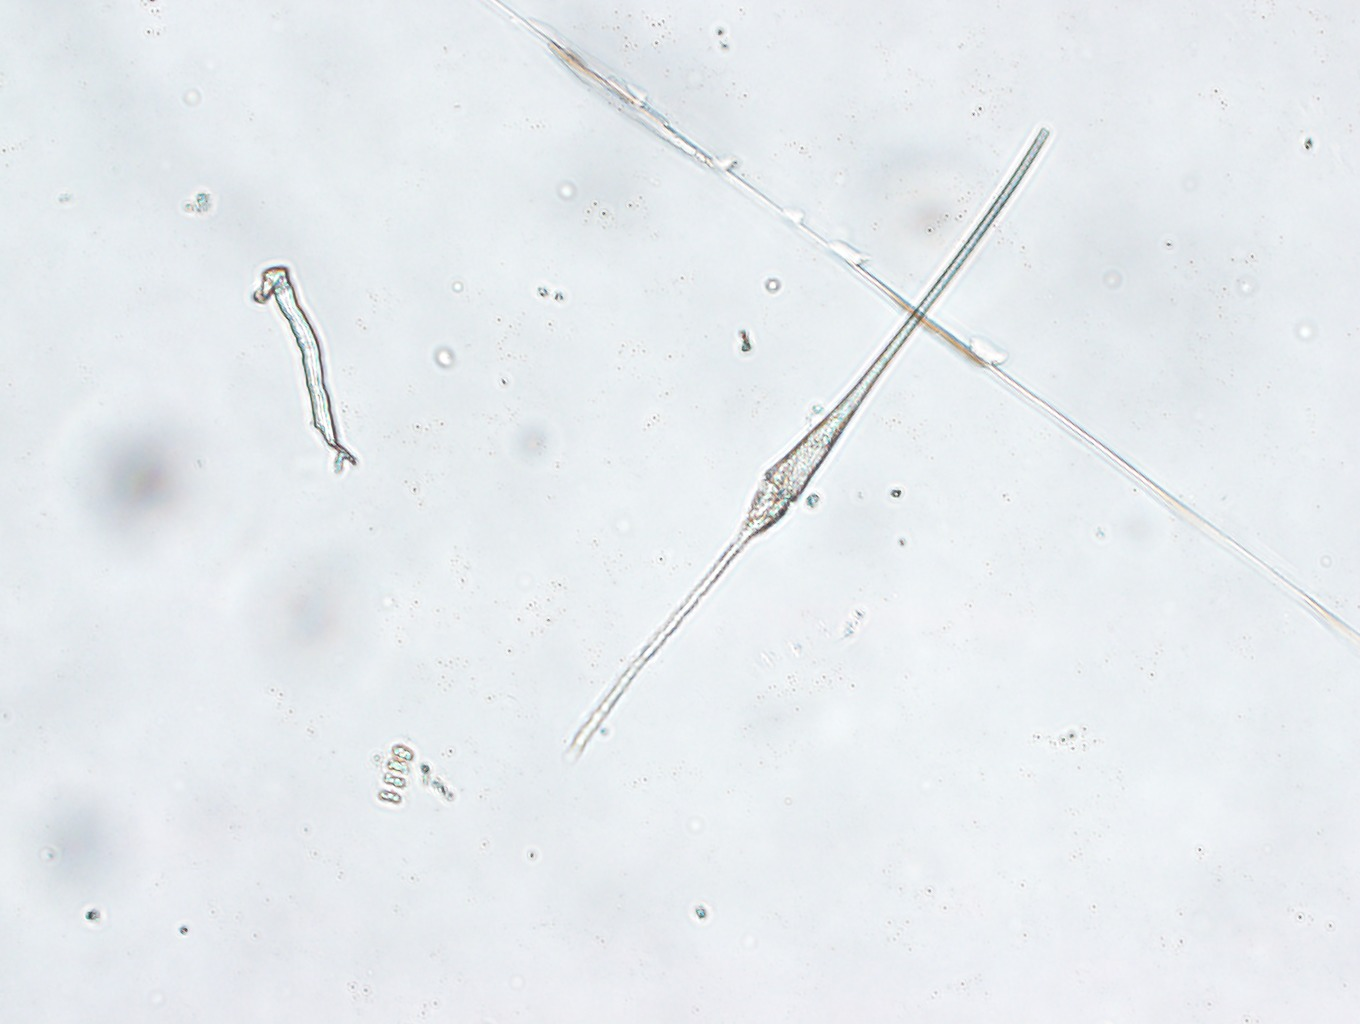ceratium fusus: (570, 128, 1050, 763)
